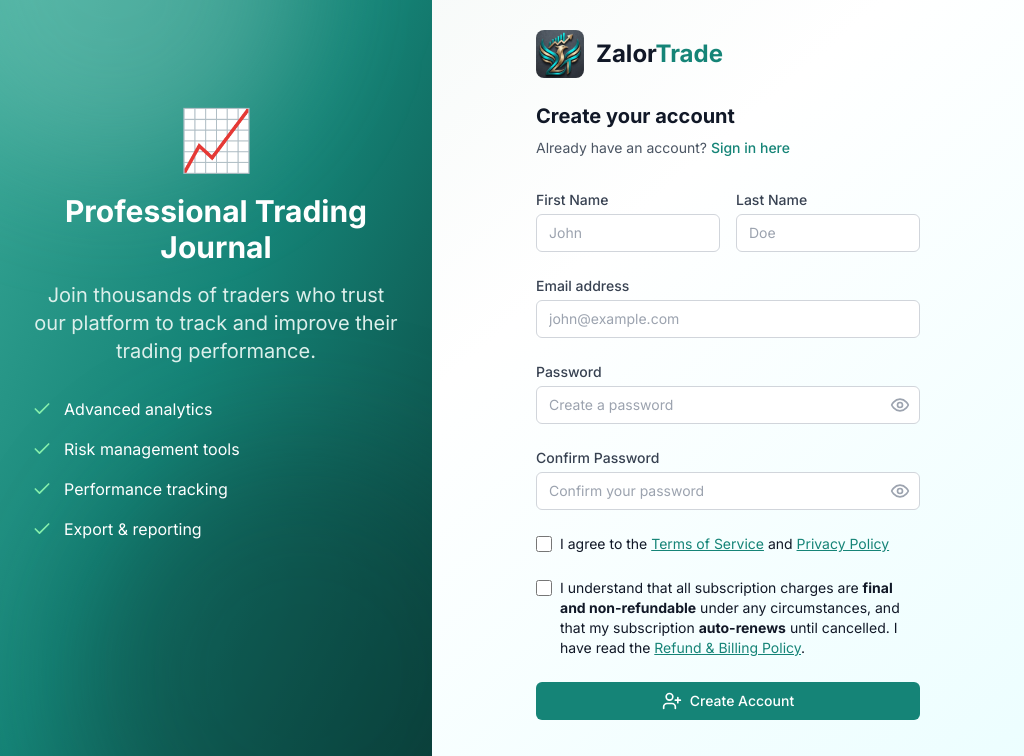
Registration & Trial Flow › MultiStepRegistration › shows validation errors for empty fields (edge case)
(page scrolled)
What coordinates should you click on to do the following:
click the button "Create Account"
I would click on:
 (728, 701)
Its box is [536,682,920,720].
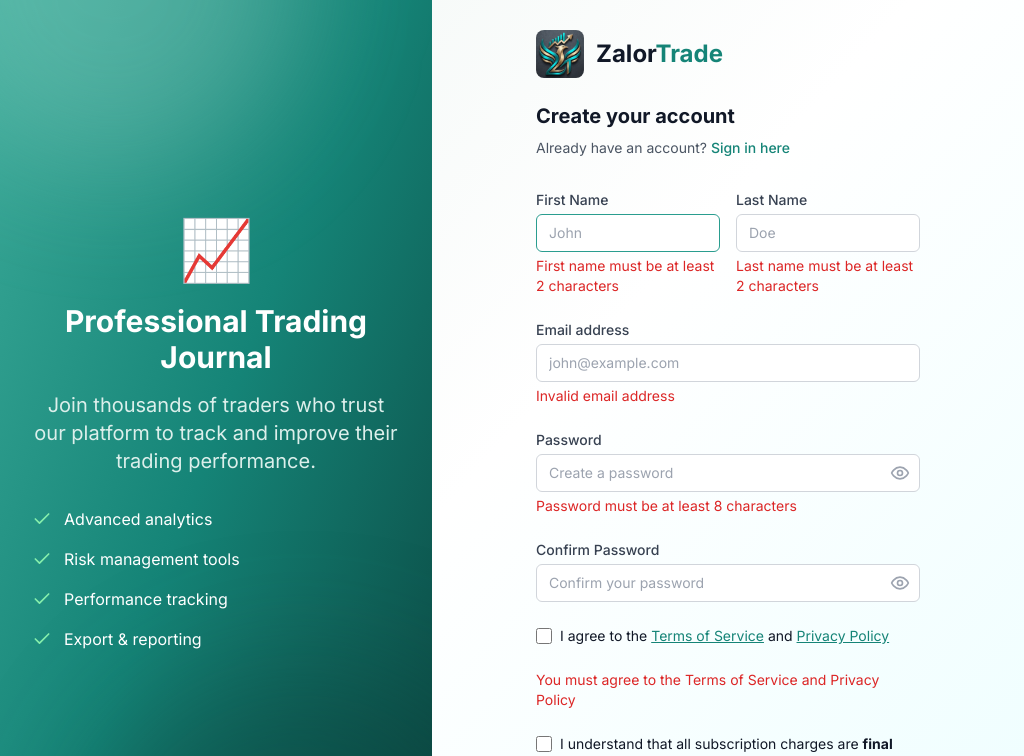
Expected: the text "First name must be at least 2 characters" is shown, [536,256,720,296]
